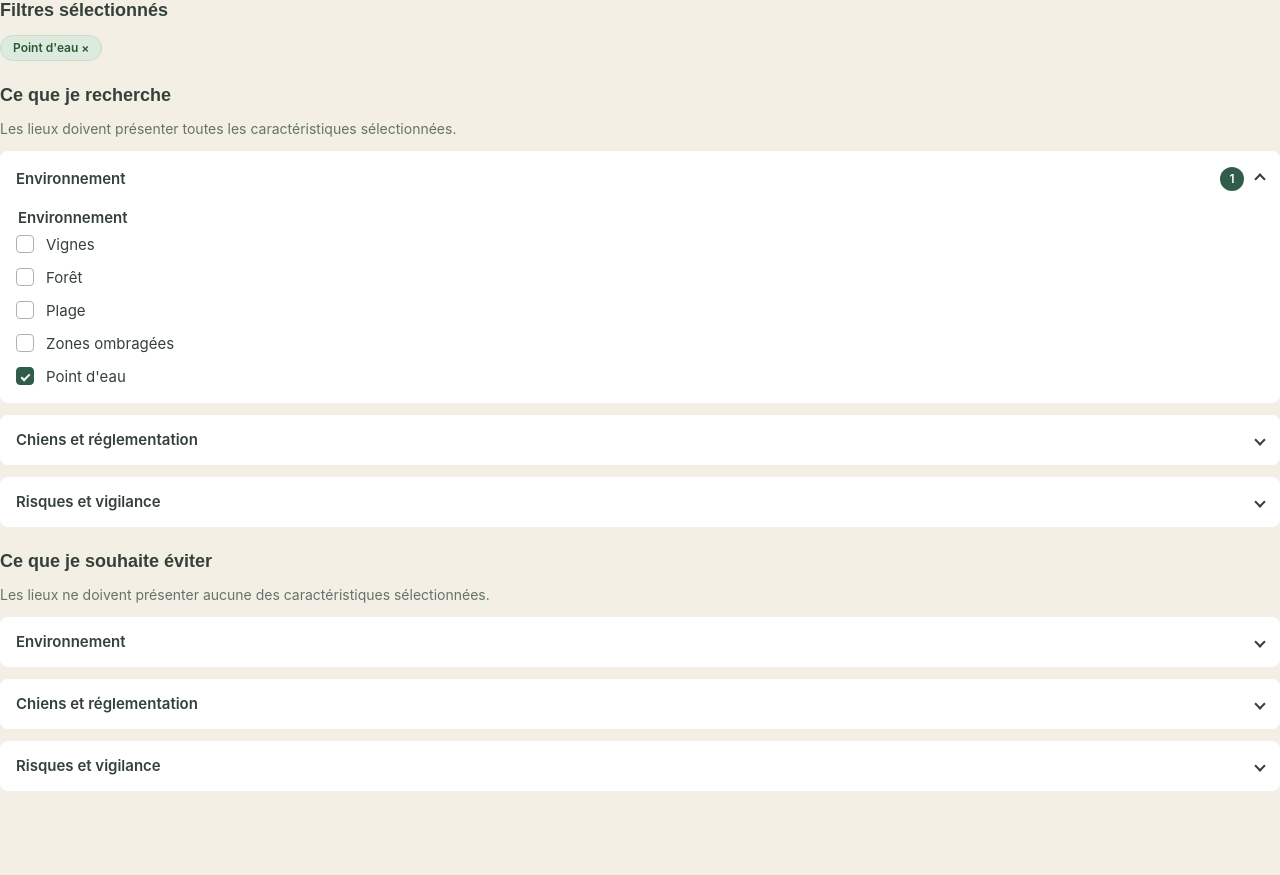
Test case: FilterPanel › allows a filter to be moved from included to excluded
Click the button "Environnement": (71, 642) [0, 618, 1279, 668]
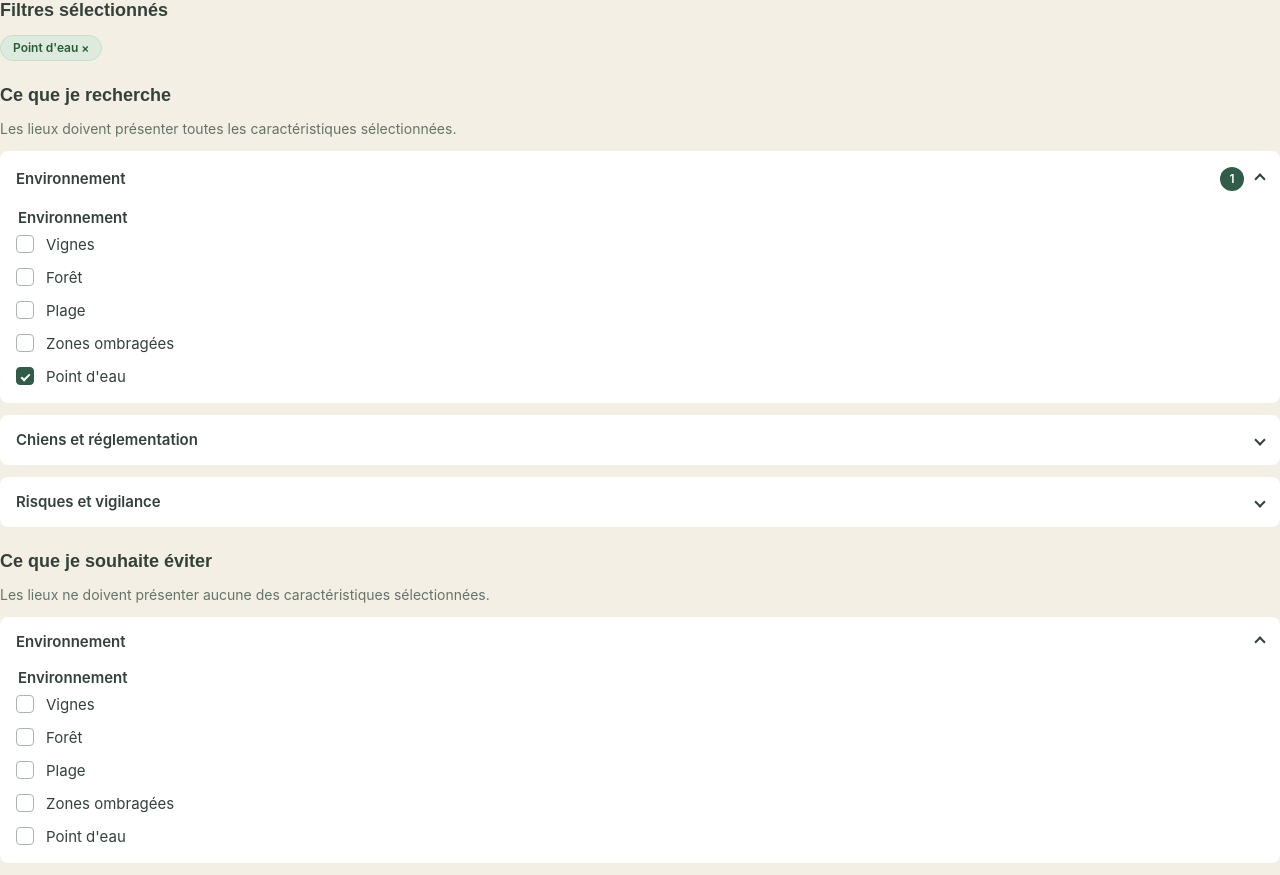
Click the 2nd checkbox labelled "Point d'eau": (25, 836) [16, 828, 34, 846]
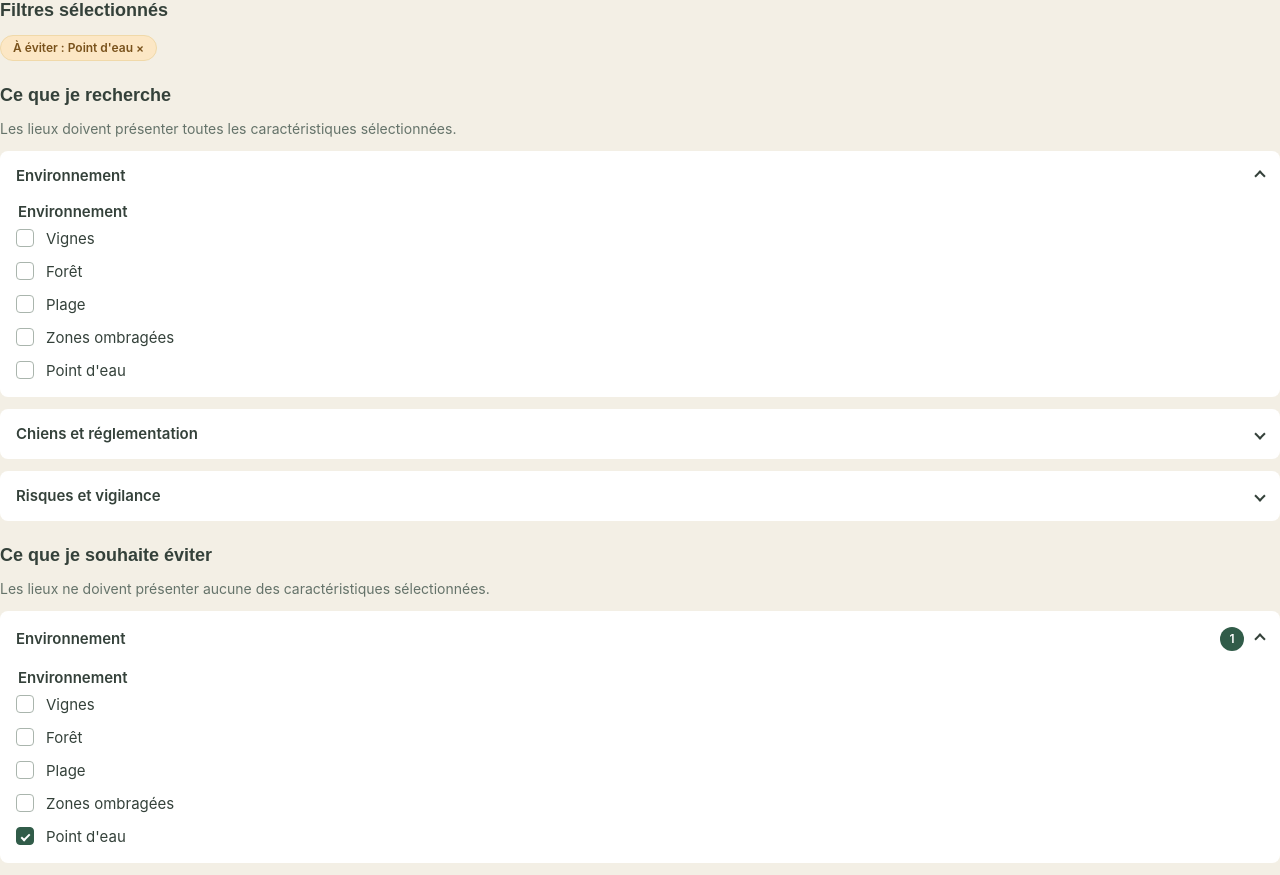
Expected: the button with aria-label "Retirer le filtre à éviter : Point d'eau" is shown, [0, 34, 157, 61]
